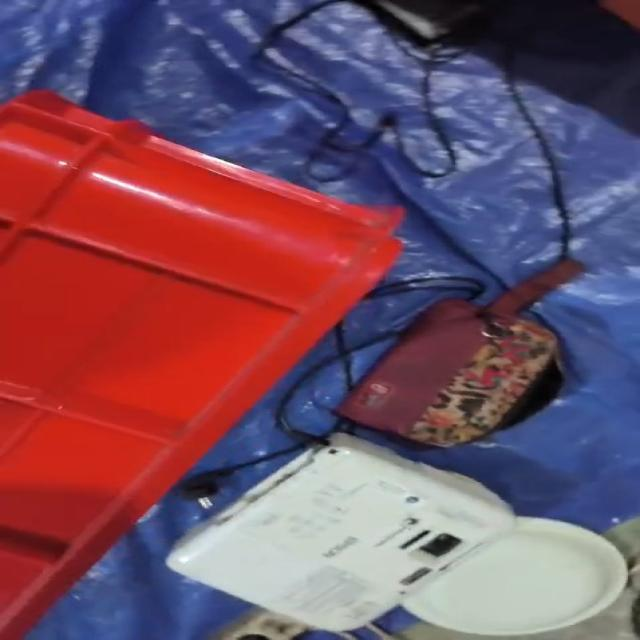red plastic box: (0, 90, 406, 640)
